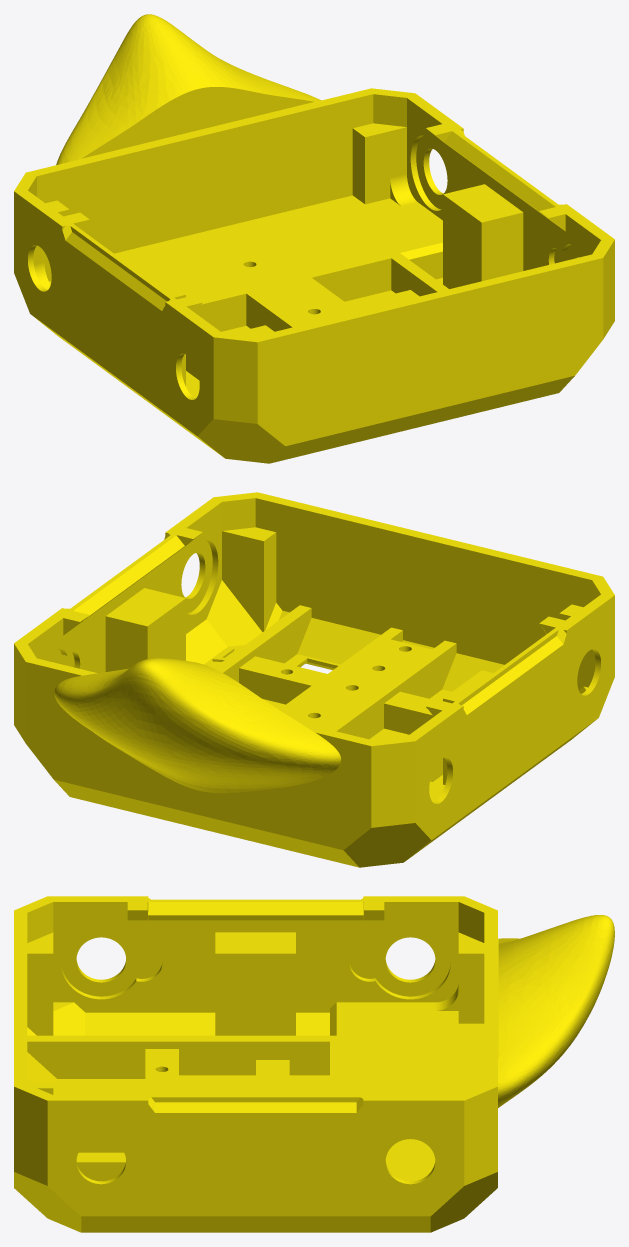
File: Bottom_Duck.glb
3 views of the same model, one above another, from view 1: azimuth 30°, elevation 25°; view 2: azimuth 150°, elevation 25°; view 3: azimuth 270°, elevation 25° (orthographic). The views are drawn at different scales.
Parts seen in each view (by area): view 1: Node1; view 2: Node1; view 3: Node1.
Boxes of the visible parts, bbox=[...] form: Node1: bbox=[14, 14, 614, 463]; Node1: bbox=[14, 492, 614, 867]; Node1: bbox=[14, 896, 614, 1232].
Size of the model in its own units: 72 by 37.45 by 89.42.
